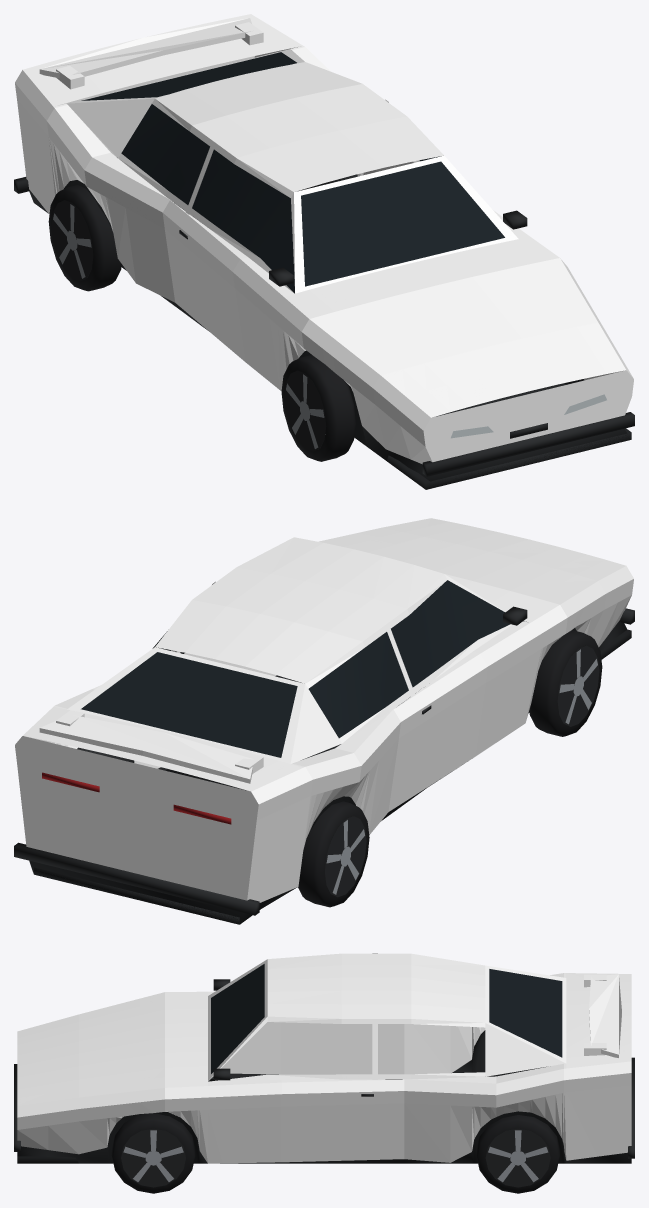
Rendered from whitlock_torvelinho.glb.
3 renders of one model, top to bottom at view 1: azimuth 30°, elevation 25°; view 2: azimuth 150°, elevation 25°; view 3: azimuth 270°, elevation 25°, orthographic. The views are drawn at different scales.
Visible parts, largest first — view 1: Body_Paint, Body_Details, Mount_FrontLeft_Wheel_Details, Mount_RearLeft_Wheel_Details; view 2: Body_Paint, Body_Details, Mount_FrontLeft_Wheel_Details, Mount_RearLeft_Wheel_Details; view 3: Body_Paint, Body_Details, Mount_FrontRight_Wheel_Details, Mount_RearRight_Wheel_Details.
Boxes of the visible parts, x1,y1,x2,y2 form: Body_Paint: (15, 14, 633, 464); Body_Details: (14, 52, 634, 489); Mount_FrontLeft_Wheel_Details: (281, 355, 355, 461); Mount_RearLeft_Wheel_Details: (48, 185, 121, 291); Body_Paint: (15, 518, 633, 902); Body_Details: (14, 580, 634, 924); Mount_FrontLeft_Wheel_Details: (529, 630, 602, 736); Mount_RearLeft_Wheel_Details: (298, 801, 369, 907); Body_Paint: (17, 953, 631, 1163); Body_Details: (14, 964, 634, 1163); Mount_FrontRight_Wheel_Details: (111, 1113, 195, 1193); Mount_RearRight_Wheel_Details: (476, 1115, 559, 1193).
Size of the model in its own units: 1.98 by 1.39 by 4.91.
2 materials, 1 textured.
